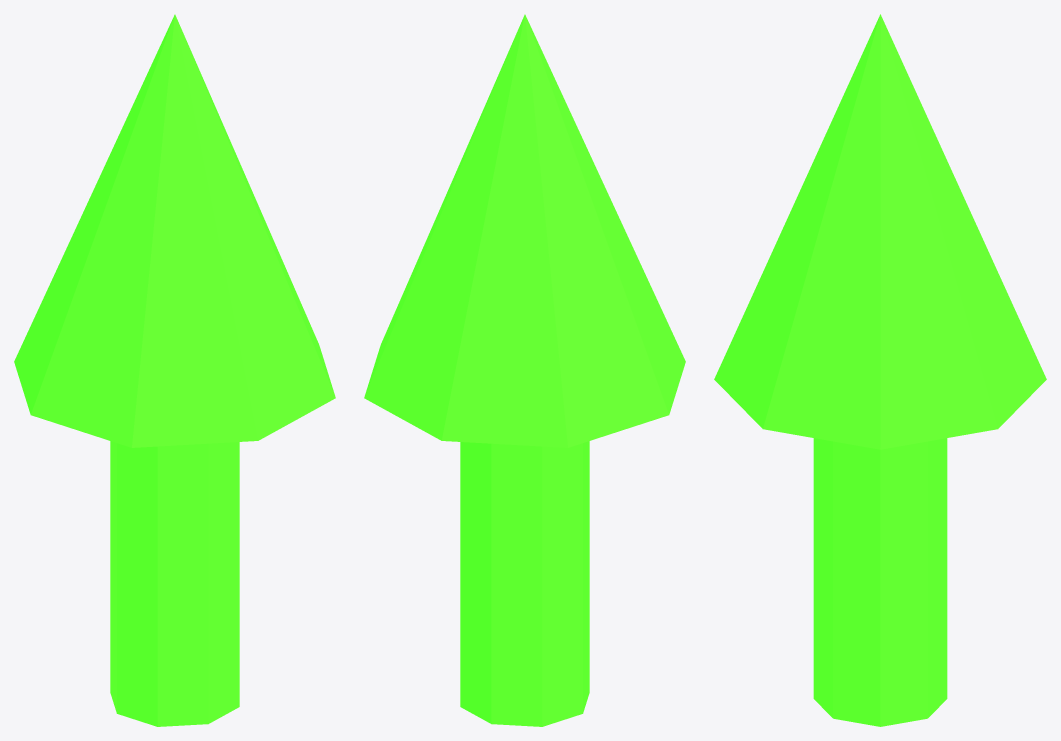
File: Pointer.fbx
3 views of the same model, side by side, from view 1: azimuth 30°, elevation 25°; view 2: azimuth 150°, elevation 25°; view 3: azimuth 270°, elevation 25° (orthographic).
Visible parts, largest first — view 1: Cube; view 2: Cube; view 3: Cube.
Boxes of the visible parts, x1,y1,x2,y2 form: Cube: (14,14,335,726); Cube: (364,14,685,726); Cube: (714,14,1046,726).
Size of the model in its own units: 128 by 291 by 128.
